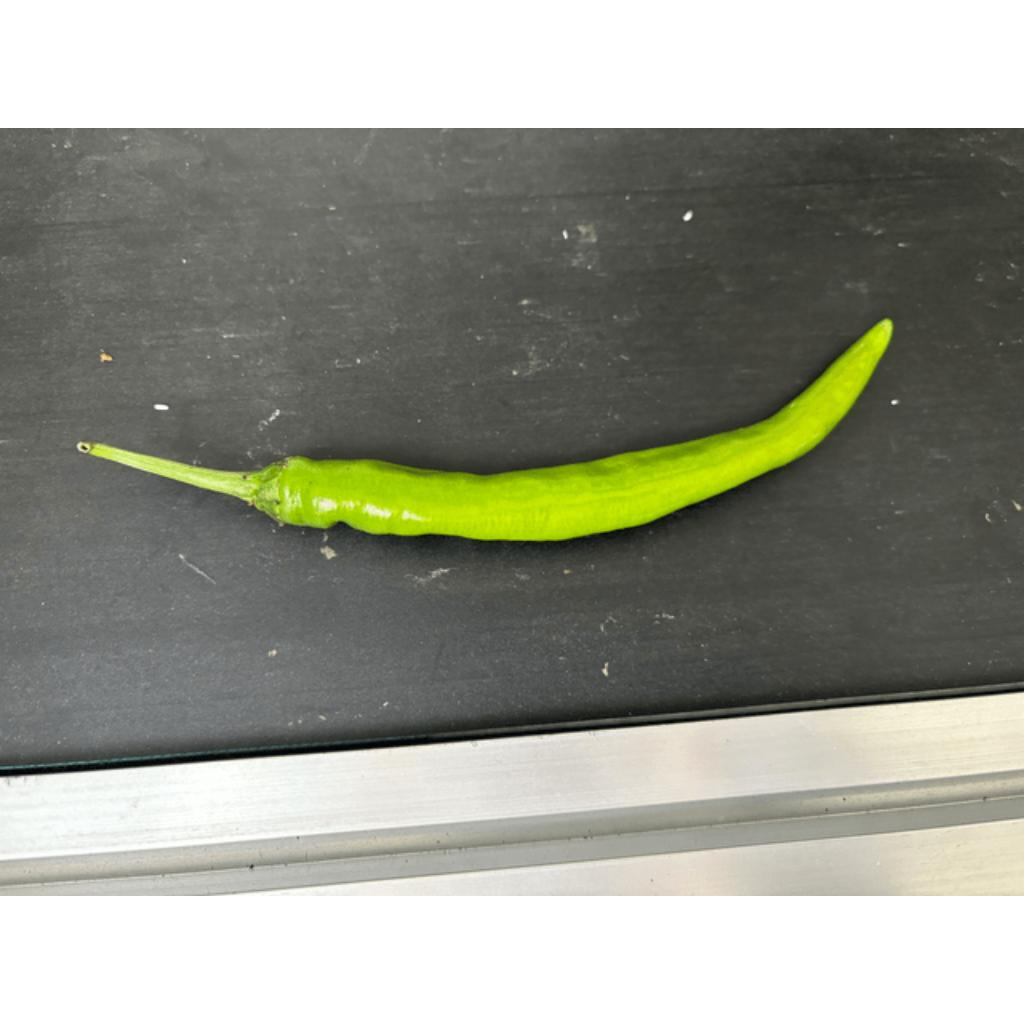chili: (250, 314, 894, 545)
